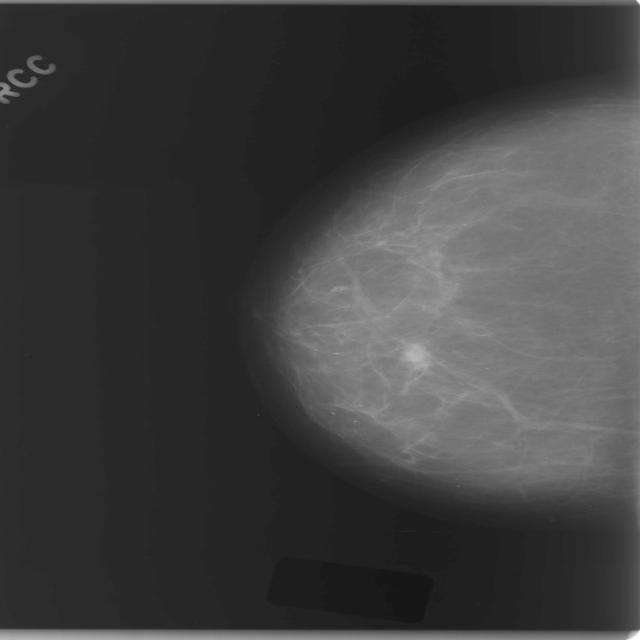tumour: (398, 340, 430, 372)
